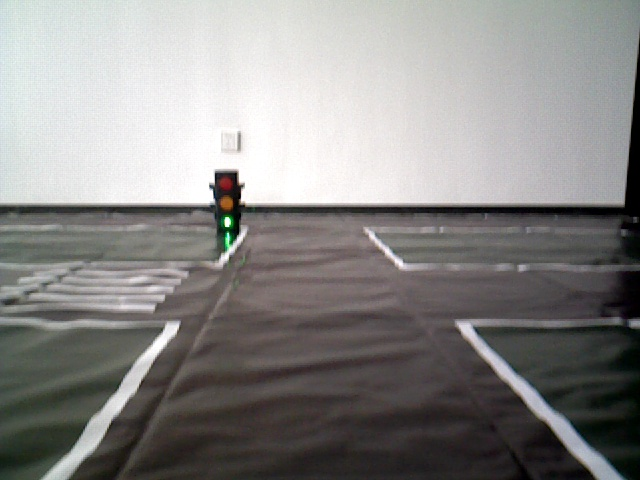green: (213, 171, 238, 230)
